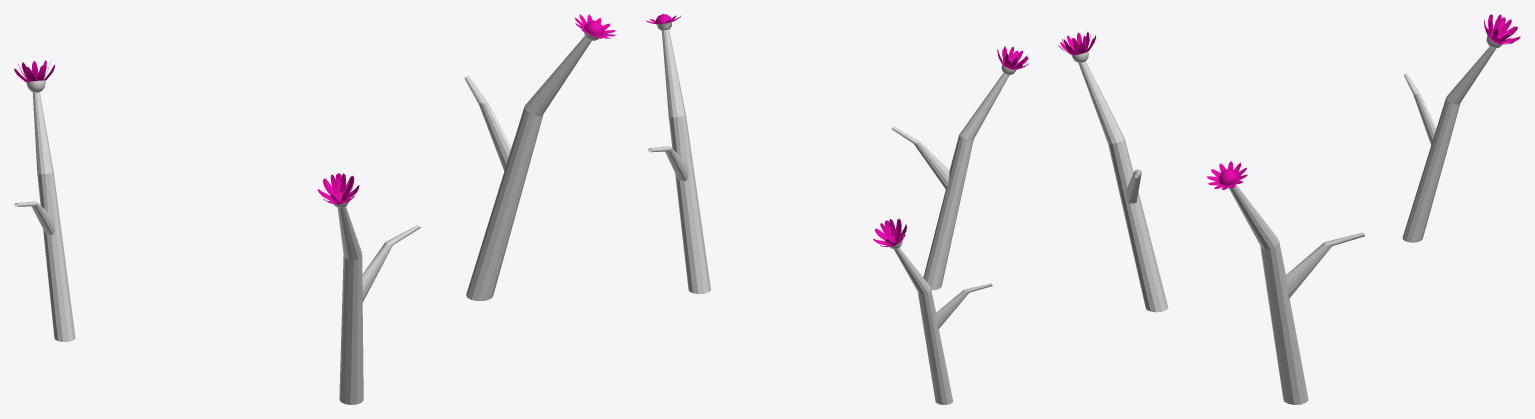
The model's file is suo-ohdake_pieni.fbx.
3 renders of one model, left to right at view 1: azimuth 30°, elevation 25°; view 2: azimuth 150°, elevation 25°; view 3: azimuth 270°, elevation 25°, orthographic. The views are drawn at different scales.
Visible parts, largest first — view 1: Suo-ohdake_pieni; view 2: Suo-ohdake_pieni; view 3: Suo-ohdake_pieni.
Part boxes in pixels (x1,y1,x2,y2): Suo-ohdake_pieni: [14, 14, 616, 404]; Suo-ohdake_pieni: [645, 14, 1028, 404]; Suo-ohdake_pieni: [1058, 14, 1520, 404].
Size of the model in its own units: 98.83 by 53.34 by 83.26.
